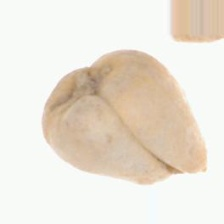L3: (151, 155, 208, 187)
L4: (40, 50, 209, 184)
